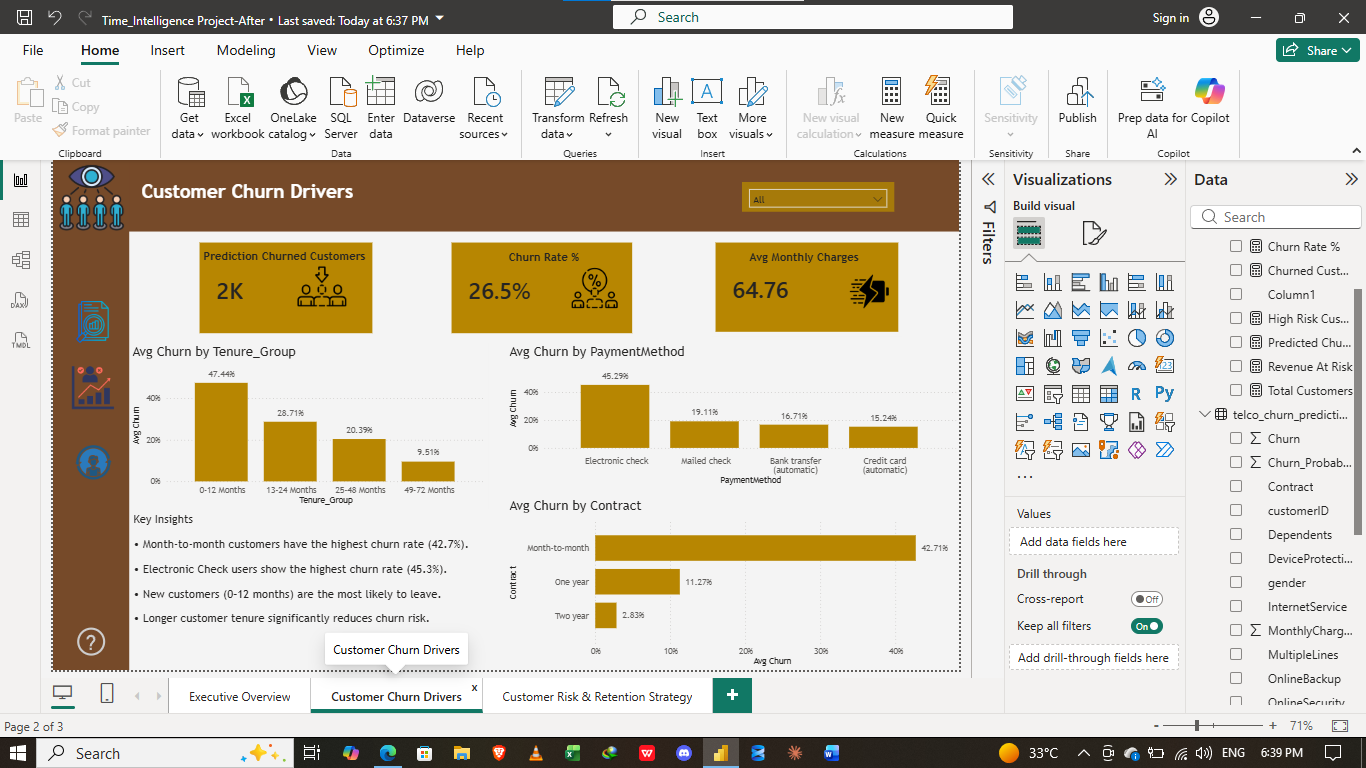

What the dashboard file says about the page in this screenshot:
{"tool":"powerbi","page":{"name":"Customer Churn Drivers","canvas":[1280,720],"ordinal":1},"visuals":[{"type":"shape","box":[0,0,107.6,720.2],"z":0,"group":"g5"},{"type":"group","id":"g1","title":"Header","box":[107.3,0,1173.2,101.6],"z":0},{"type":"shape","box":[107.3,0,1172.7,101.5],"z":0,"group":"g1"},{"type":"image","box":[19.6,198.6,72.1,58.7],"z":1000,"group":"g5"},{"type":"clusteredBarChart","fields":{"Category":["telco_churn_predictions.Contract"],"Y":["DAX.Avg Churn"]},"box":[639.5,475.8,640.9,244.2],"z":1000},{"type":"clusteredColumnChart","fields":{"Y":["DAX.Avg Churn"],"Category":["telco_churn_predictions.PaymentMethod"]},"box":[639.5,258.4,640.9,206.1],"z":2000},{"type":"image","box":[28.1,386.9,59.9,78.3],"z":2000,"group":"g5"},{"type":"cardVisual","fields":{"Data":["DAX.Predicted Churn Customers"]},"box":[201.9,111.5,254.1,138.4],"z":3000,"group":"g4"},{"type":"clusteredColumnChart","fields":{"Category":["telco_churn_predictions.Tenure_Group"],"Y":["DAX.Avg Churn"]},"box":[107.3,258.4,506.8,234.4],"z":3000},{"type":"image","box":[25.7,287.9,62.4,67.3],"z":3000,"group":"g5"},{"type":"image","box":[7.3,3.7,95.4,97.8],"z":4000,"group":"g5"},{"type":"textbox","box":[119.5,24.5,418.2,62.4],"z":4000,"group":"g1"},{"type":"cardVisual","fields":{"Data":["DAX.Churn Rate %"]},"box":[557.6,111.5,265.1,138.4],"z":4000,"group":"g3"},{"type":"group","id":"g2","title":"Group 3","box":[930.4,111.5,276.7,136.9],"z":4000},{"type":"group","id":"g3","title":"Group 4","box":[557.6,111.5,271.1,138.4],"z":5000},{"type":"cardVisual","fields":{"Data":["DAX.Avg Monthly Charges"]},"box":[930.4,111.5,268.2,136.9],"z":5000,"group":"g2"},{"type":"actionButton","box":[28.1,651.8,51.4,55],"z":5000,"group":"g5"},{"type":"group","id":"g4","title":"Group 5","box":[201.9,111.5,254.1,138.4],"z":6000},{"type":"slicer","fields":{"Values":["telco_churn_predictions.Contract","telco_churn_predictions.PaymentMethod","telco_churn_predictions.InternetService"]},"box":[972.7,31.1,214.6,42.4],"z":7000},{"type":"textbox","box":[600.6,122.7,186.4,31.1],"z":7000,"group":"g3"},{"type":"textbox","box":[955.3,122.6,208.9,31.1],"z":8000,"group":"g2"},{"type":"textbox","box":[108,492,506,228],"z":8000},{"type":"group","id":"g5","title":"Navigator","box":[0,0,107.3,720],"z":9000},{"type":"textbox","box":[207.7,122,241.4,31.1],"z":16000,"group":"g4"},{"type":"image","box":[325.4,144,107.6,69.2],"z":17000,"group":"g4"},{"type":"image","box":[700.3,148.6,128.9,64.9],"z":18000,"group":"g3"},{"type":"image","box":[1097.1,158.4,110.2,55.1],"z":19000,"group":"g2"}]}

Visuals, with their boxes on the page's 1280x720 design canvas (x1, y1, x2, y2). These are canvas units, not pixel positions in the 1366x768 screenshot, which may show the page scaled, cropped or inside an application window:
shape: 0, 0, 108, 720
"Header" group: 107, 0, 1280, 102
shape: 107, 0, 1280, 102
image: 20, 199, 92, 257
clusteredBarChart - telco_churn_predictions.Contract x DAX.Avg Churn: 640, 476, 1280, 720
clusteredColumnChart - DAX.Avg Churn x telco_churn_predictions.PaymentMethod: 640, 258, 1280, 464
image: 28, 387, 88, 465
cardVisual - DAX.Predicted Churn Customers: 202, 112, 456, 250
clusteredColumnChart - telco_churn_predictions.Tenure_Group x DAX.Avg Churn: 107, 258, 614, 493
image: 26, 288, 88, 355
image: 7, 4, 103, 102
textbox: 120, 24, 538, 87
cardVisual - DAX.Churn Rate %: 558, 112, 823, 250
"Group 3" group: 930, 112, 1207, 248
"Group 4" group: 558, 112, 829, 250
cardVisual - DAX.Avg Monthly Charges: 930, 112, 1199, 248
actionButton: 28, 652, 80, 707
"Group 5" group: 202, 112, 456, 250
slicer - telco_churn_predictions.Contract x telco_churn_predictions.PaymentMethod: 973, 31, 1187, 74
textbox: 601, 123, 787, 154
textbox: 955, 123, 1164, 154
textbox: 108, 492, 614, 720
"Navigator" group: 0, 0, 107, 720
textbox: 208, 122, 449, 153
image: 325, 144, 433, 213
image: 700, 149, 829, 214
image: 1097, 158, 1207, 214
